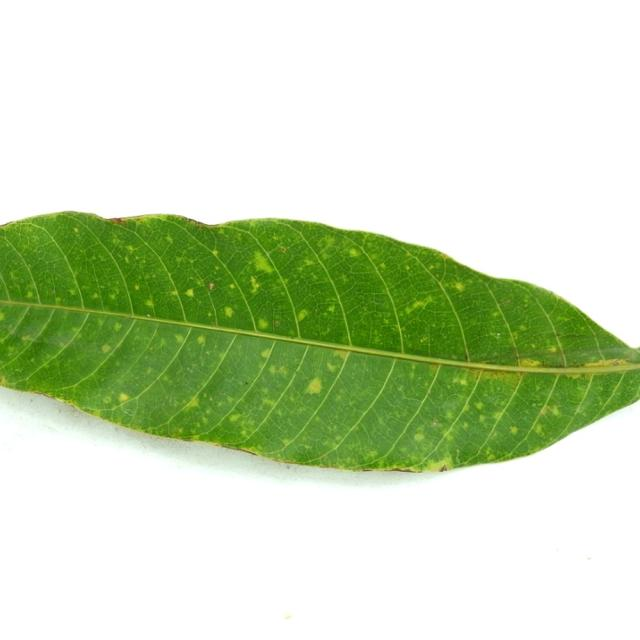Mango: (0, 212, 639, 471)
Powdery_Mildew: (298, 371, 327, 400), (479, 368, 519, 381), (422, 458, 454, 474), (252, 255, 274, 274), (183, 396, 201, 410), (407, 299, 426, 312), (539, 404, 559, 416), (583, 360, 612, 368), (517, 358, 542, 367), (326, 359, 340, 373), (333, 349, 350, 360), (249, 279, 261, 293), (261, 398, 276, 408), (110, 218, 128, 226), (223, 306, 234, 318), (298, 309, 309, 321), (257, 318, 268, 330), (118, 392, 130, 402), (492, 410, 504, 420), (324, 237, 336, 247), (101, 344, 112, 354), (196, 335, 206, 346), (454, 282, 465, 292), (260, 348, 271, 358), (444, 432, 455, 442), (229, 413, 241, 422), (267, 365, 277, 375), (348, 248, 359, 257), (175, 335, 185, 344), (414, 432, 424, 441), (474, 401, 484, 410), (444, 411, 454, 420), (338, 275, 347, 285), (547, 345, 558, 353), (440, 251, 451, 259), (303, 259, 315, 266), (568, 373, 582, 379), (185, 288, 194, 297), (113, 322, 122, 331), (367, 450, 377, 458), (320, 252, 330, 260), (21, 336, 32, 343), (103, 395, 112, 403), (327, 305, 336, 313), (145, 367, 154, 375), (510, 426, 518, 434), (284, 611, 292, 619), (479, 415, 487, 423), (461, 421, 469, 429), (459, 378, 468, 385), (125, 245, 134, 252), (282, 438, 291, 445), (25, 291, 34, 298), (392, 326, 401, 333), (296, 266, 305, 273), (0, 376, 7, 385), (169, 290, 179, 296), (145, 300, 153, 307), (279, 246, 287, 253), (518, 324, 526, 331), (108, 293, 116, 300), (492, 311, 500, 318), (176, 427, 184, 434), (420, 336, 428, 343), (213, 266, 221, 273), (0, 311, 5, 321), (209, 282, 215, 290), (91, 293, 99, 299), (212, 250, 219, 256), (228, 284, 235, 290), (69, 289, 76, 295), (124, 256, 130, 263), (55, 297, 62, 303), (334, 436, 341, 442), (176, 257, 183, 263), (379, 263, 386, 269), (73, 227, 79, 233), (404, 265, 410, 271), (304, 444, 310, 450), (274, 321, 280, 327), (433, 420, 439, 425), (134, 285, 140, 290), (383, 319, 389, 324), (207, 312, 212, 317), (152, 274, 157, 278)
